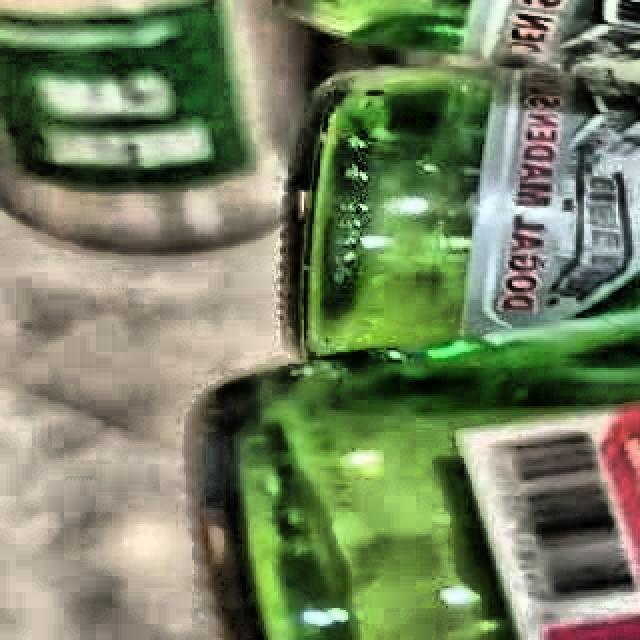glass: (189, 0, 640, 640)
